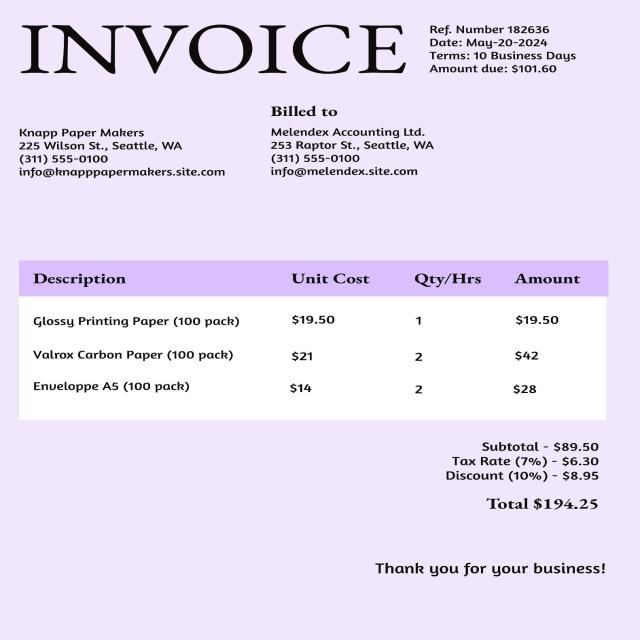paragraph: (19, 17, 412, 86), (5, 111, 233, 192), (439, 429, 624, 518), (260, 100, 444, 183), (421, 14, 588, 81), (367, 545, 622, 588)
table: (14, 257, 608, 421)
